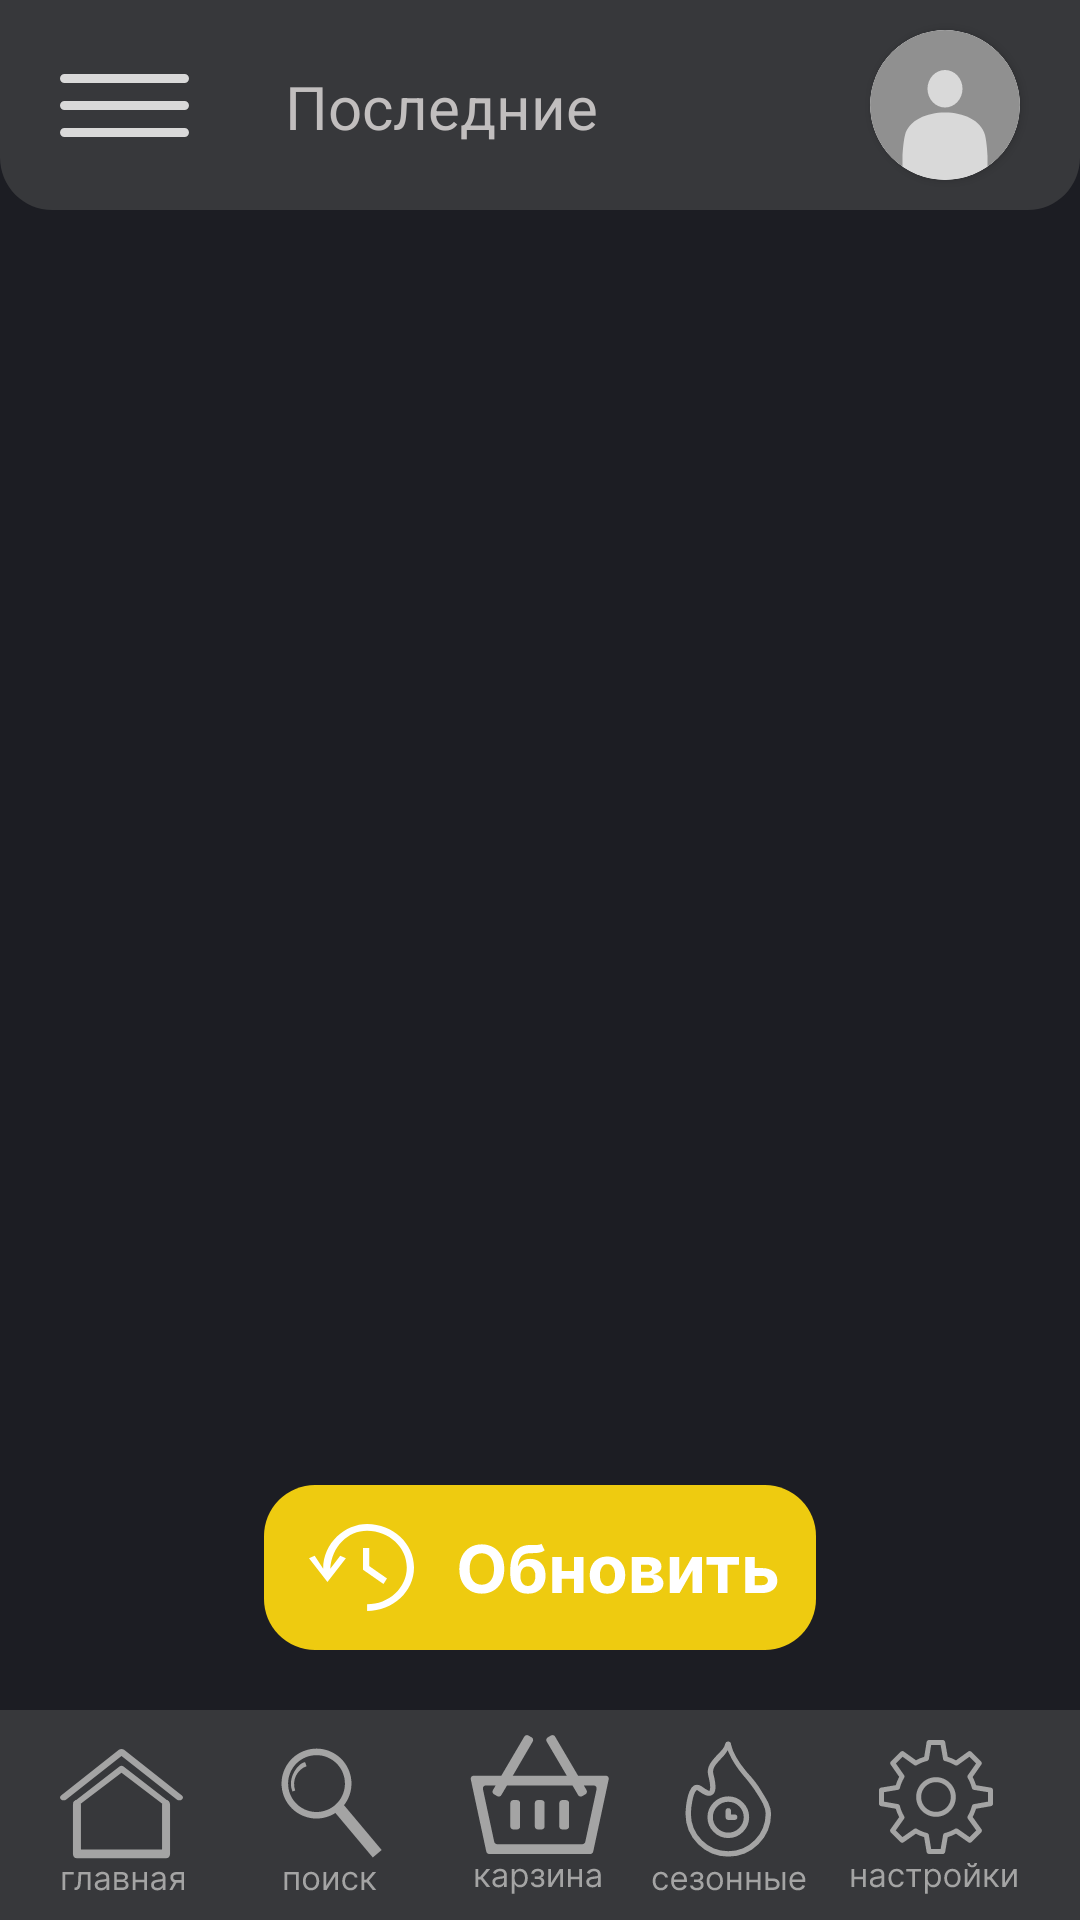

Icon click points for this 1080x1920 phone screenshot, format point (x, y):
avatarka: point (945, 105)
menu: point (124, 105)
